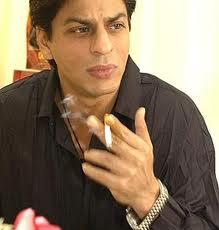cigarette: (99, 110, 116, 153)
